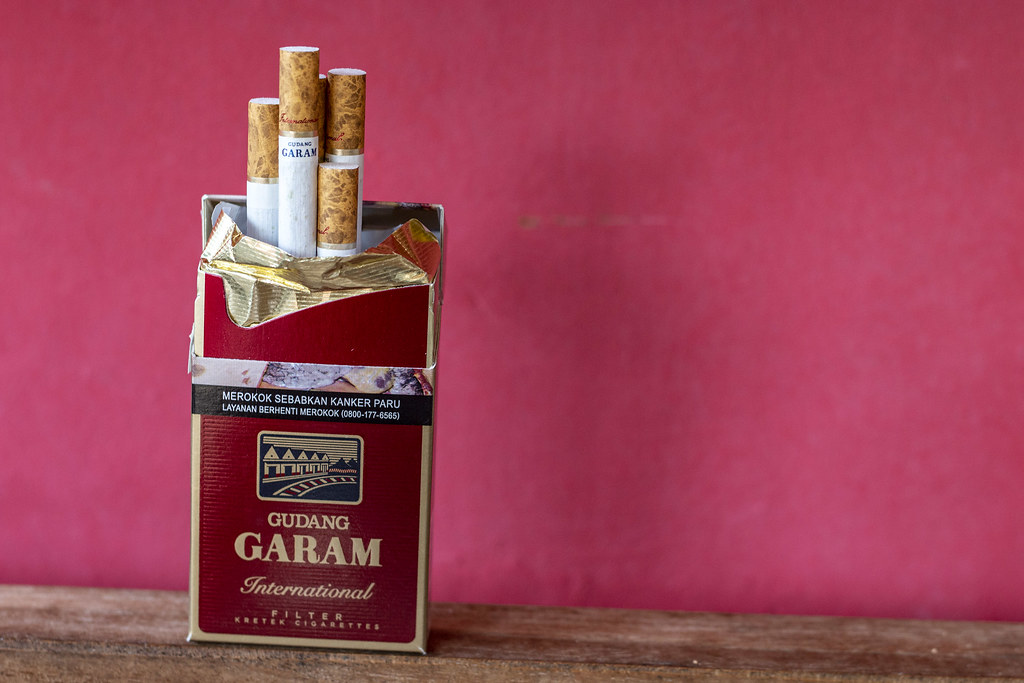garam filter: (190, 180, 469, 683)
